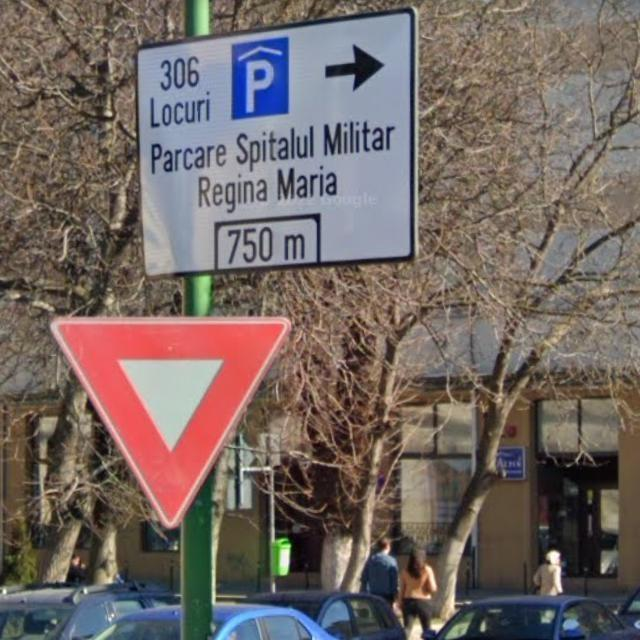prio_give_way: (44, 313, 290, 523)
